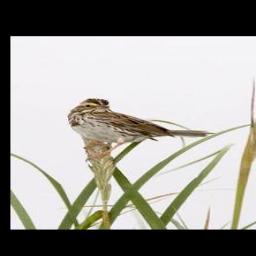Sparrow: (67, 97, 220, 162)
